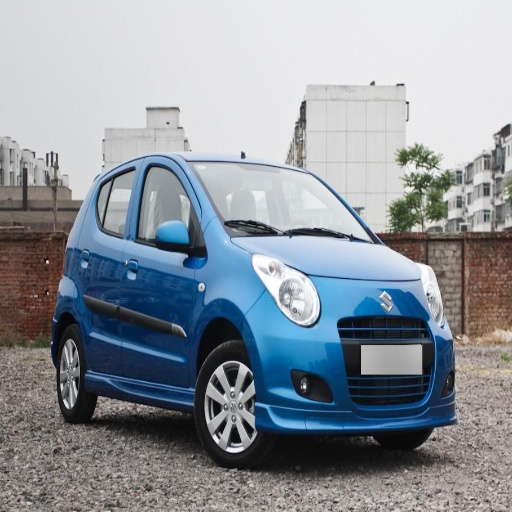front_bumper: (253, 276, 453, 435)
front_right_door: (119, 157, 200, 390)
front_right_light: (254, 256, 320, 326)
